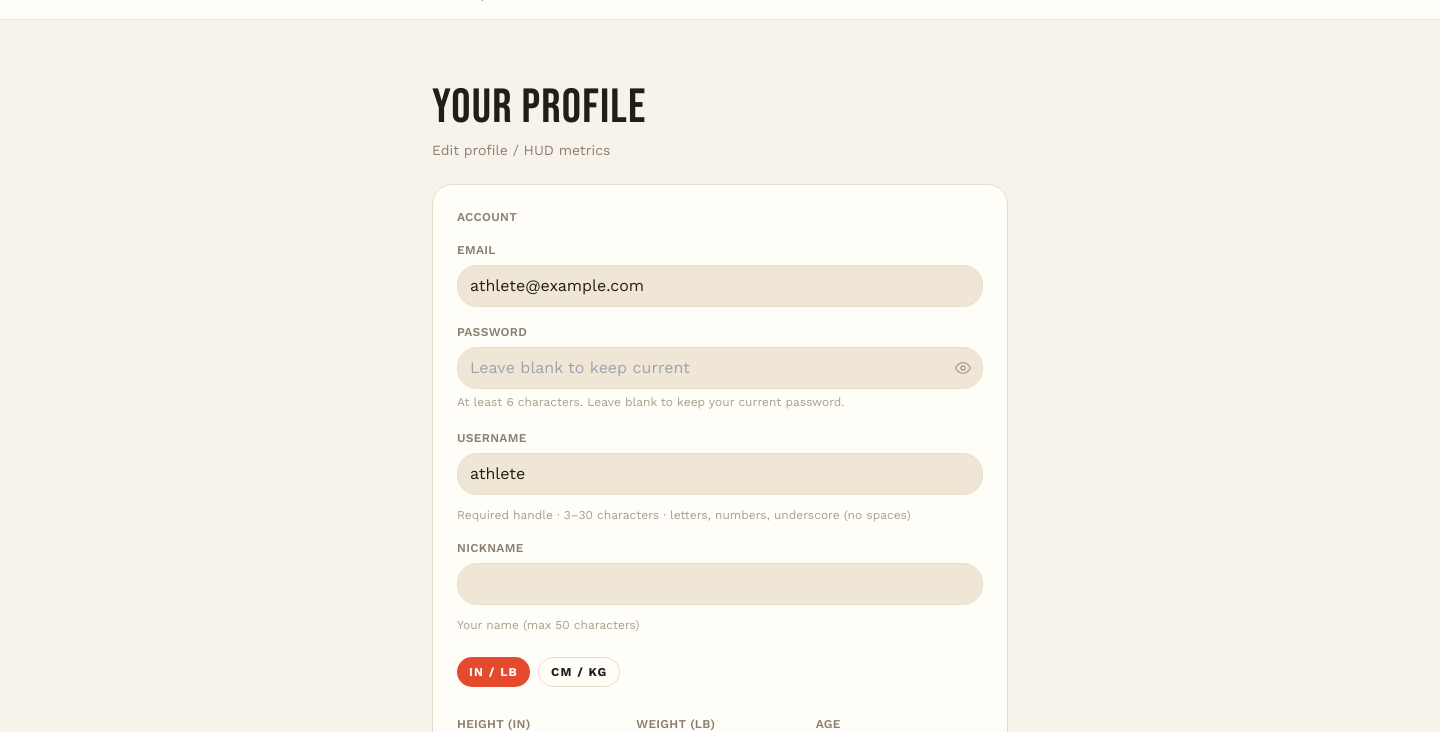
Test: IntakePage › requires the full metric set when any body field is filled
Replace the text in the field labelled "Username" with "ghost_ops". click: coordinates (720, 474)
box: x1=457 y1=453 x2=983 y2=495
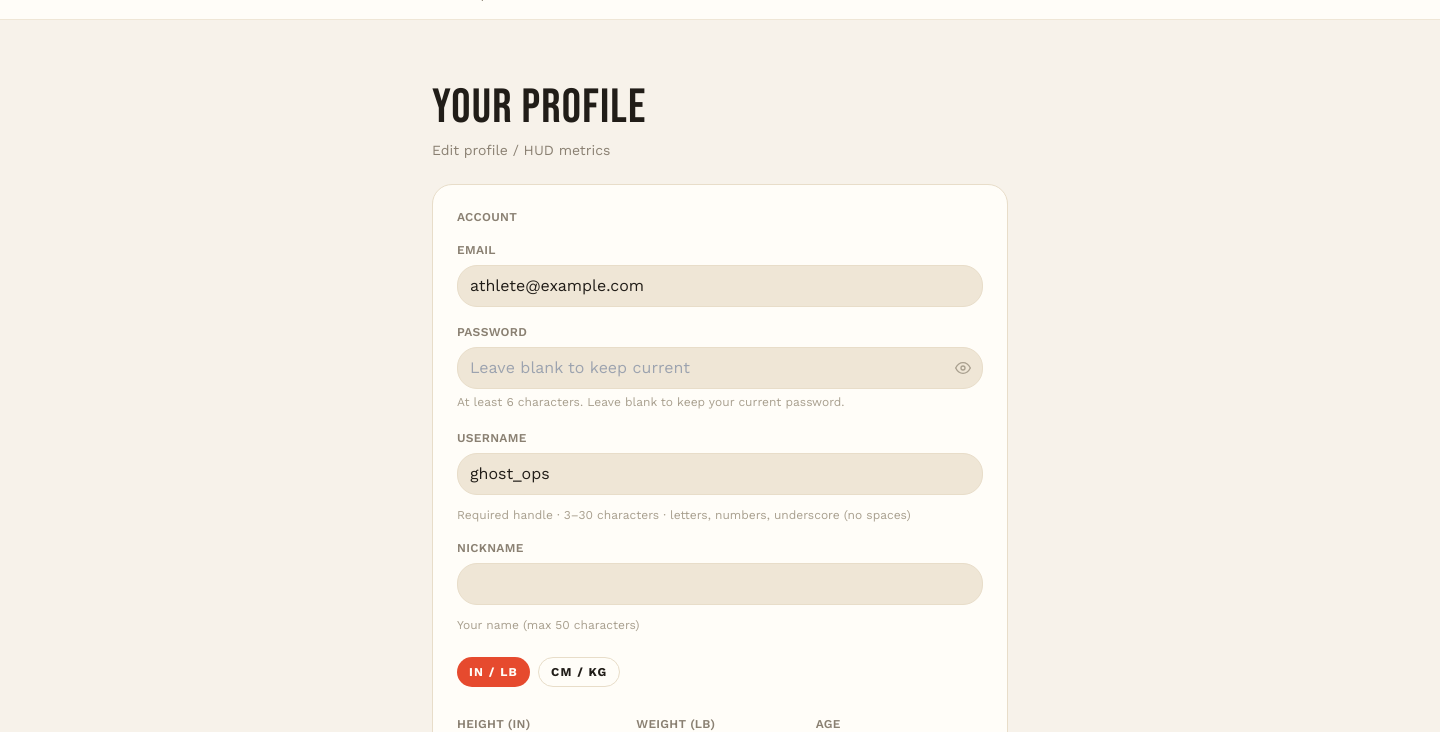
Type "Ghost" into the field labelled "Nickname". click: coordinates (720, 584)
box: x1=457 y1=563 x2=983 y2=605
(page scrolled)
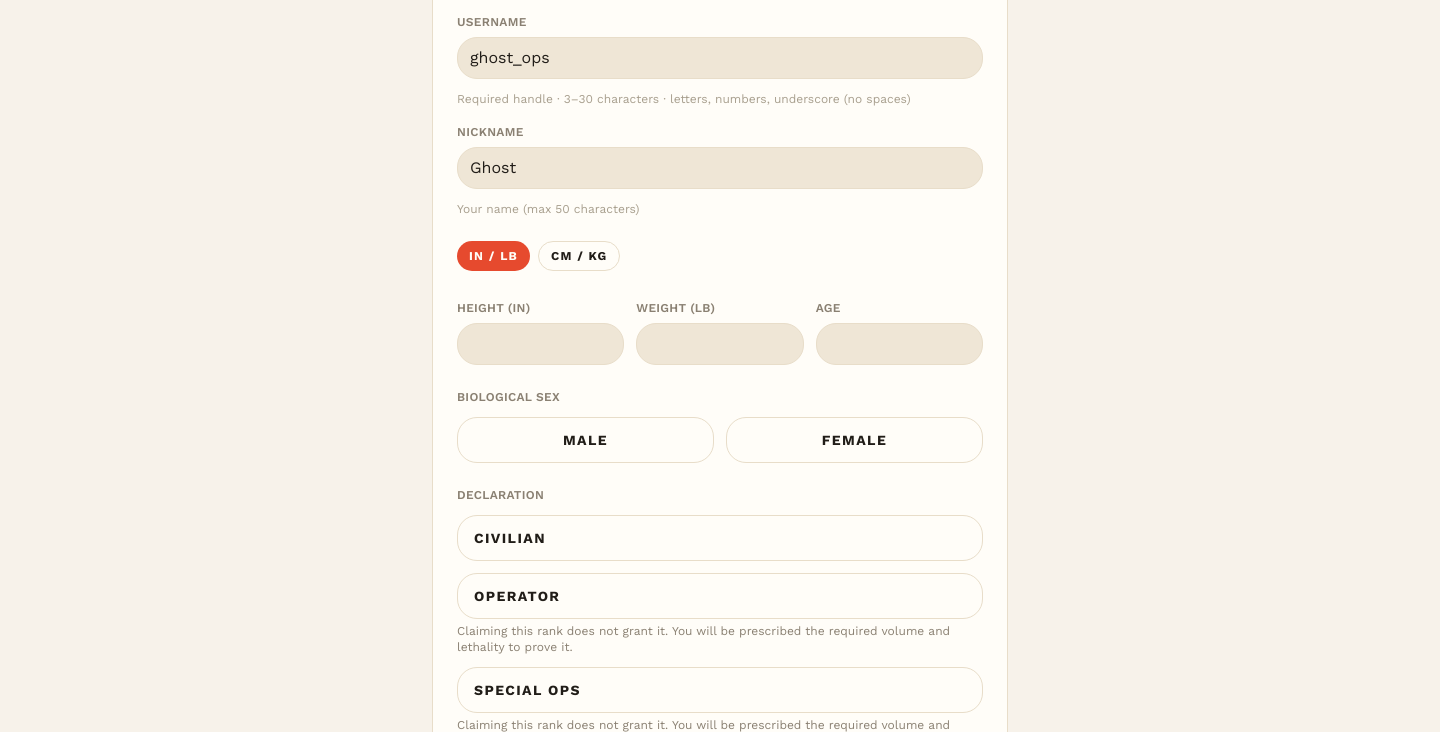
Type "71" into the field labelled "Height (in)". click: coordinates (541, 344)
box: x1=457 y1=323 x2=624 y2=365
(page scrolled)
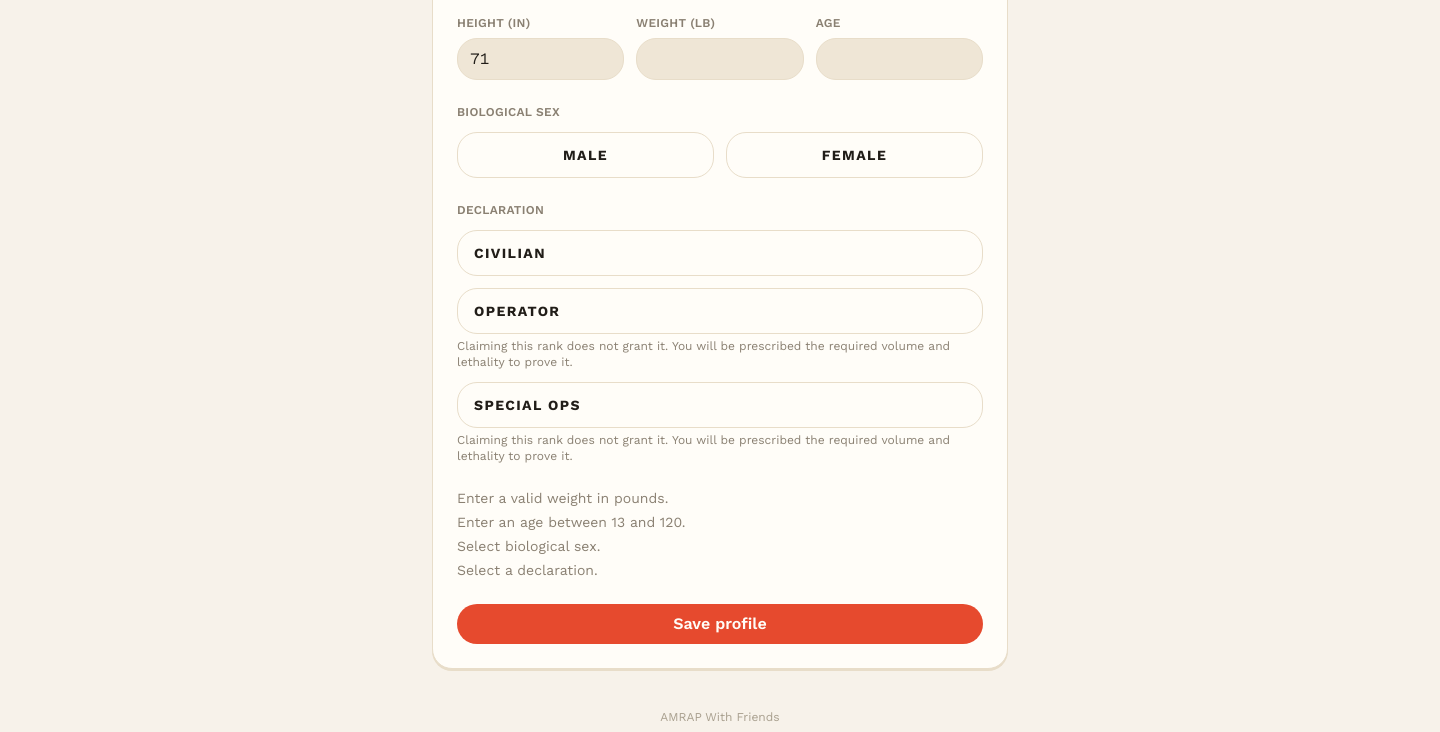
Click the button "Save profile". click: coordinates (720, 624)
box: x1=457 y1=604 x2=983 y2=644
(page scrolled)
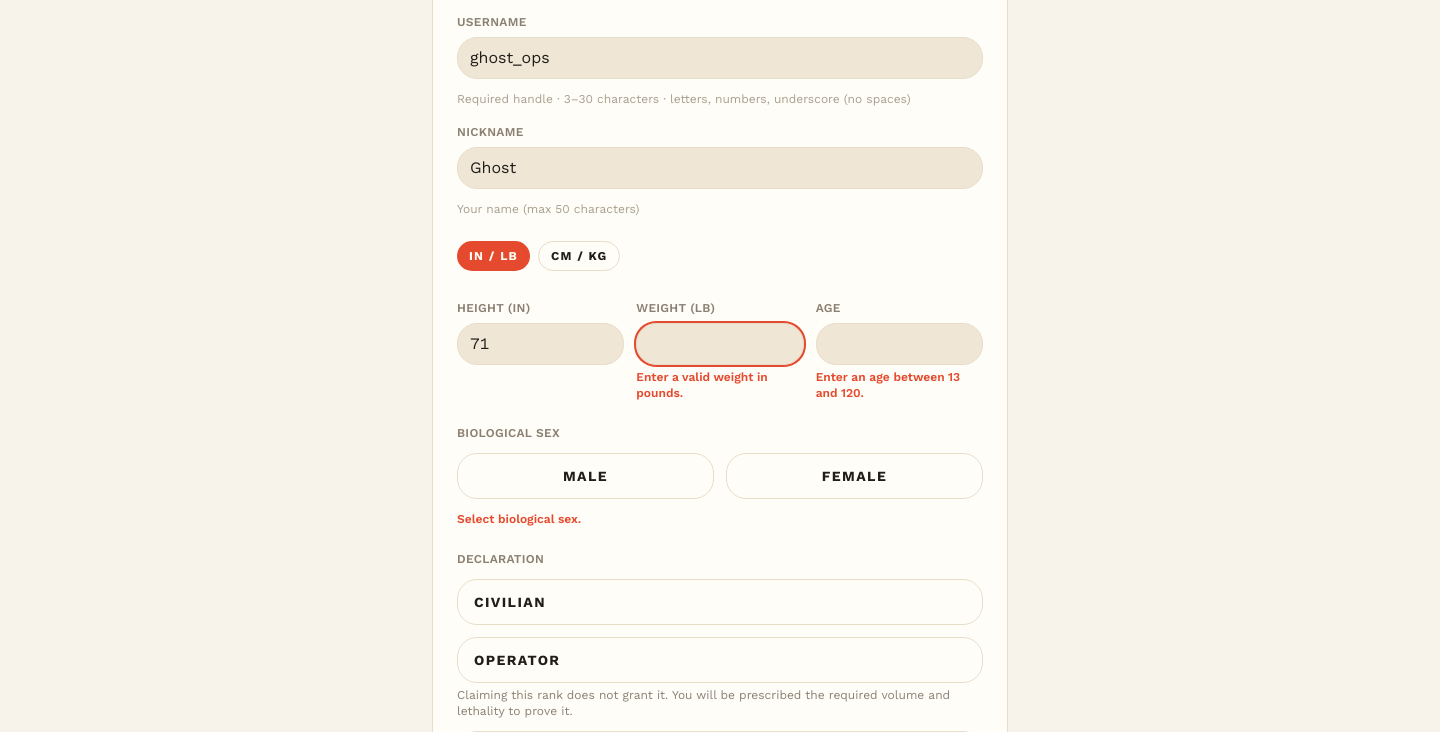
Check: the text "Enter a valid weight in pounds." is shown, box x1=636 y1=370 x2=768 y2=400
